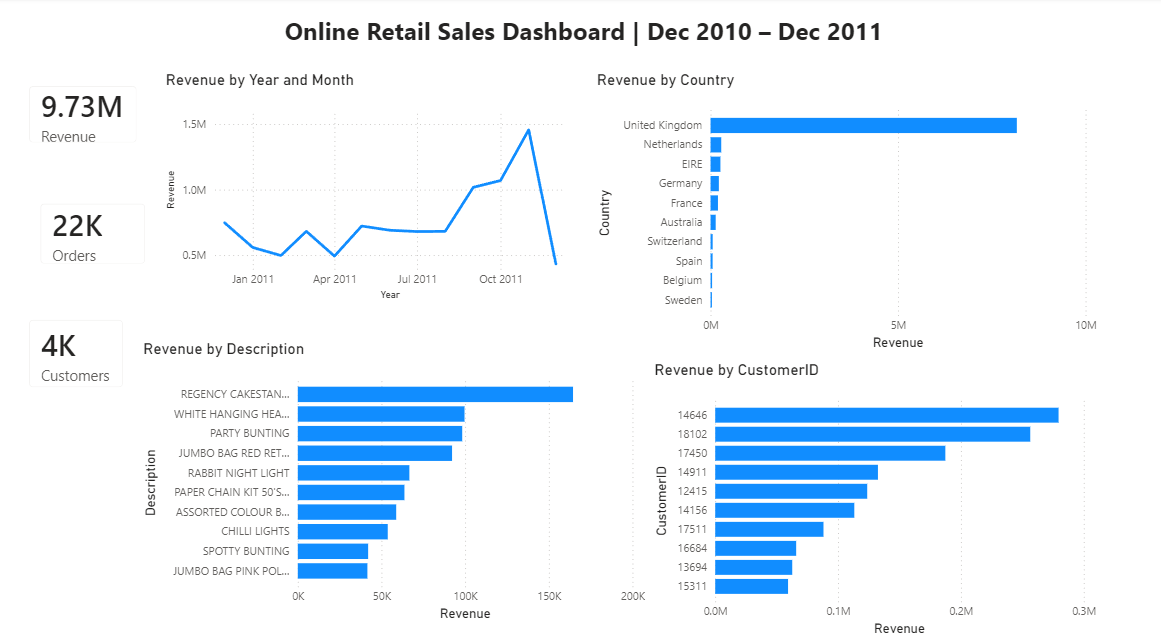

The page's visual inventory and layout, read from the dashboard file:
{"tool":"powerbi","page":{"name":"Page 1","canvas":[1280,720],"ordinal":0},"visuals":[{"type":"lineChart","fields":{"Category":["online_retail sales.InvoiceDate.Variation.Date Hierarchy.Year","online_retail sales.InvoiceDate.Variation.Date Hierarchy.Month"],"Y":["online_retail sales.Revenue"]},"box":[177,81,462.4,256.6],"z":0},{"type":"clusteredBarChart","fields":{"Category":["online_retail sales.Description"],"Y":["online_retail sales.Revenue"]},"box":[152.3,376,561.2,314.2],"z":1000},{"type":"clusteredBarChart","fields":{"Category":["online_retail sales.Country"],"Y":["online_retail sales.Revenue"]},"box":[650.4,81,558.5,311.5],"z":2000},{"type":"clusteredBarChart","fields":{"Category":["online_retail sales.CustomerID"],"Y":["online_retail sales.Revenue"]},"box":[713.6,399.3,495.4,307.4],"z":3000},{"type":"textbox","box":[177,13.7,927.6,57.6],"z":3001},{"type":"cardVisual","fields":{"Data":["online_retail sales.Revenue"]},"box":[15.1,81,152.3,96.1],"z":3002},{"type":"cardVisual","fields":{"Data":["online_retail sales.Orders"]},"box":[27.4,209.9,149.6,100.2],"z":3003},{"type":"cardVisual","fields":{"Data":["online_retail sales.Customers"]},"box":[15.1,337.6,137.2,108.4],"z":3004}]}

Visuals, with their boxes in screenshot pixels (x1, y1, x2, y2), scaled from the page's 1280x720 canvas onto the 1161x642 screenshot:
lineChart - online_retail sales.InvoiceDate.Variation.Date Hierarchy.Year x online_retail sales.InvoiceDate.Variation.Date Hierarchy.Month: Rect(161, 72, 580, 301)
clusteredBarChart - online_retail sales.Description x online_retail sales.Revenue: Rect(138, 335, 647, 615)
clusteredBarChart - online_retail sales.Country x online_retail sales.Revenue: Rect(590, 72, 1097, 350)
clusteredBarChart - online_retail sales.CustomerID x online_retail sales.Revenue: Rect(647, 356, 1097, 630)
textbox: Rect(161, 12, 1002, 64)
cardVisual - online_retail sales.Revenue: Rect(14, 72, 152, 158)
cardVisual - online_retail sales.Orders: Rect(25, 187, 161, 277)
cardVisual - online_retail sales.Customers: Rect(14, 301, 138, 398)
